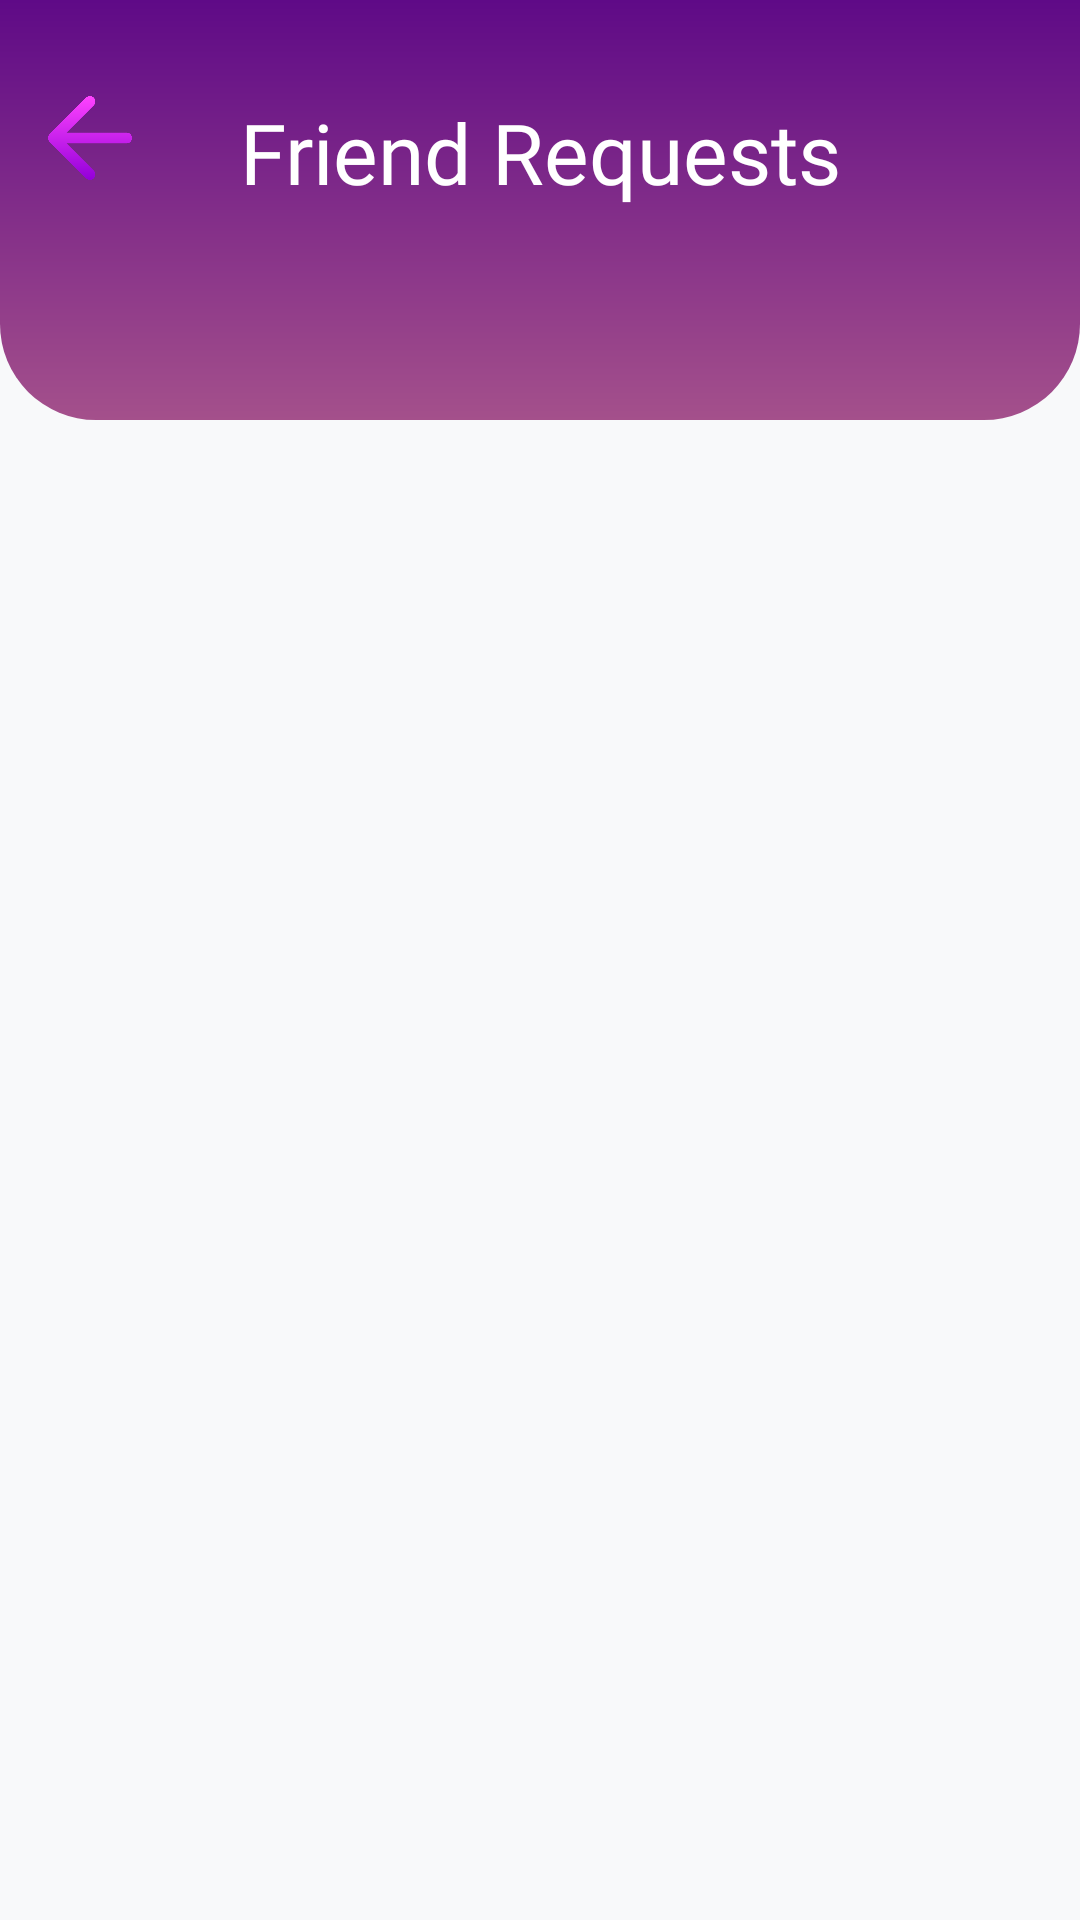

Screen size 1080px x 1920px. Icon name, then its box in pixels as (x1, y1, x2, y2):
Back Button: (48, 96, 132, 180)
